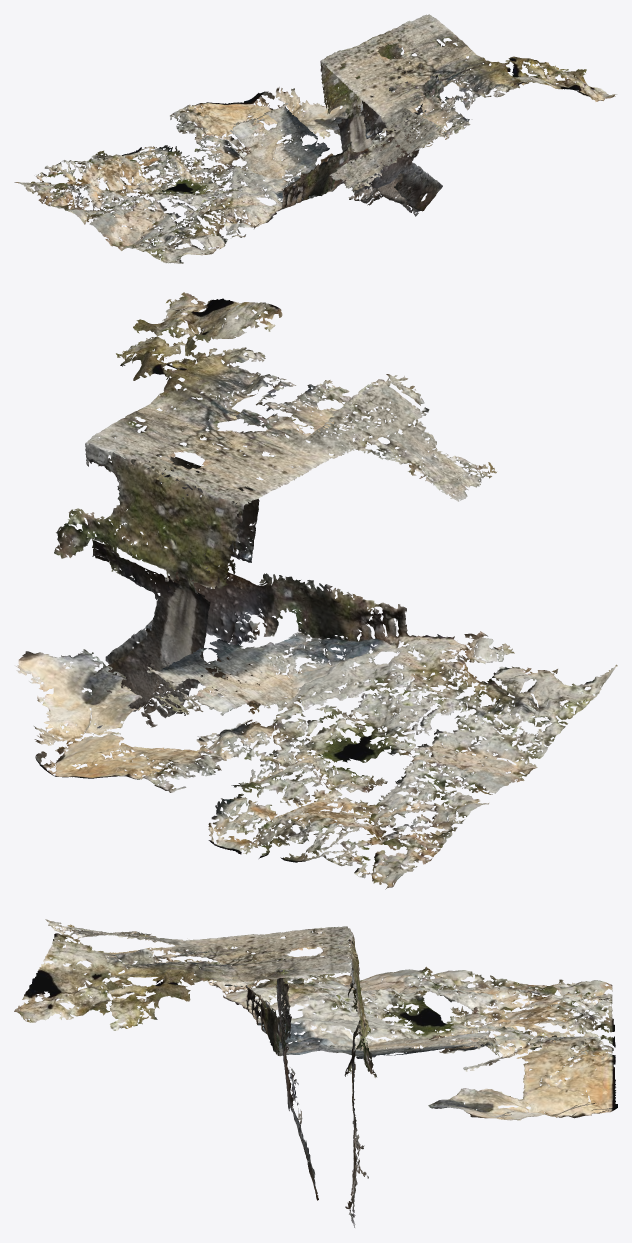
3 renders of one model, top to bottom at view 1: azimuth 30°, elevation 25°; view 2: azimuth 150°, elevation 25°; view 3: azimuth 270°, elevation 25°, orthographic. The views are drawn at different scales.
Size of the model in its own units: 21.87 by 12.05 by 22.85.
1 material, 1 textured.
